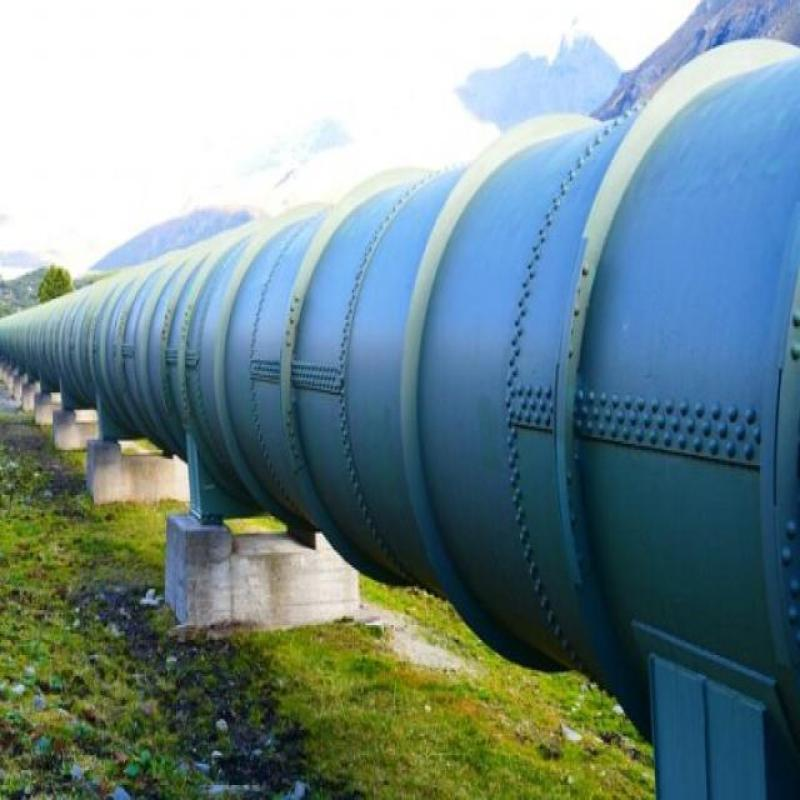Healthy: (5, 100, 800, 768)
